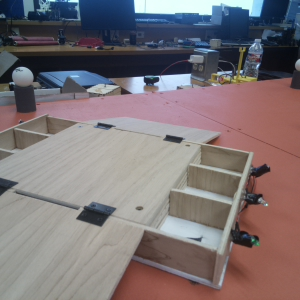obstacle: (9, 66, 41, 112), (287, 60, 300, 90)
side: (142, 145, 275, 285), (1, 114, 78, 157)
slope: (1, 173, 125, 296), (91, 108, 216, 143)
